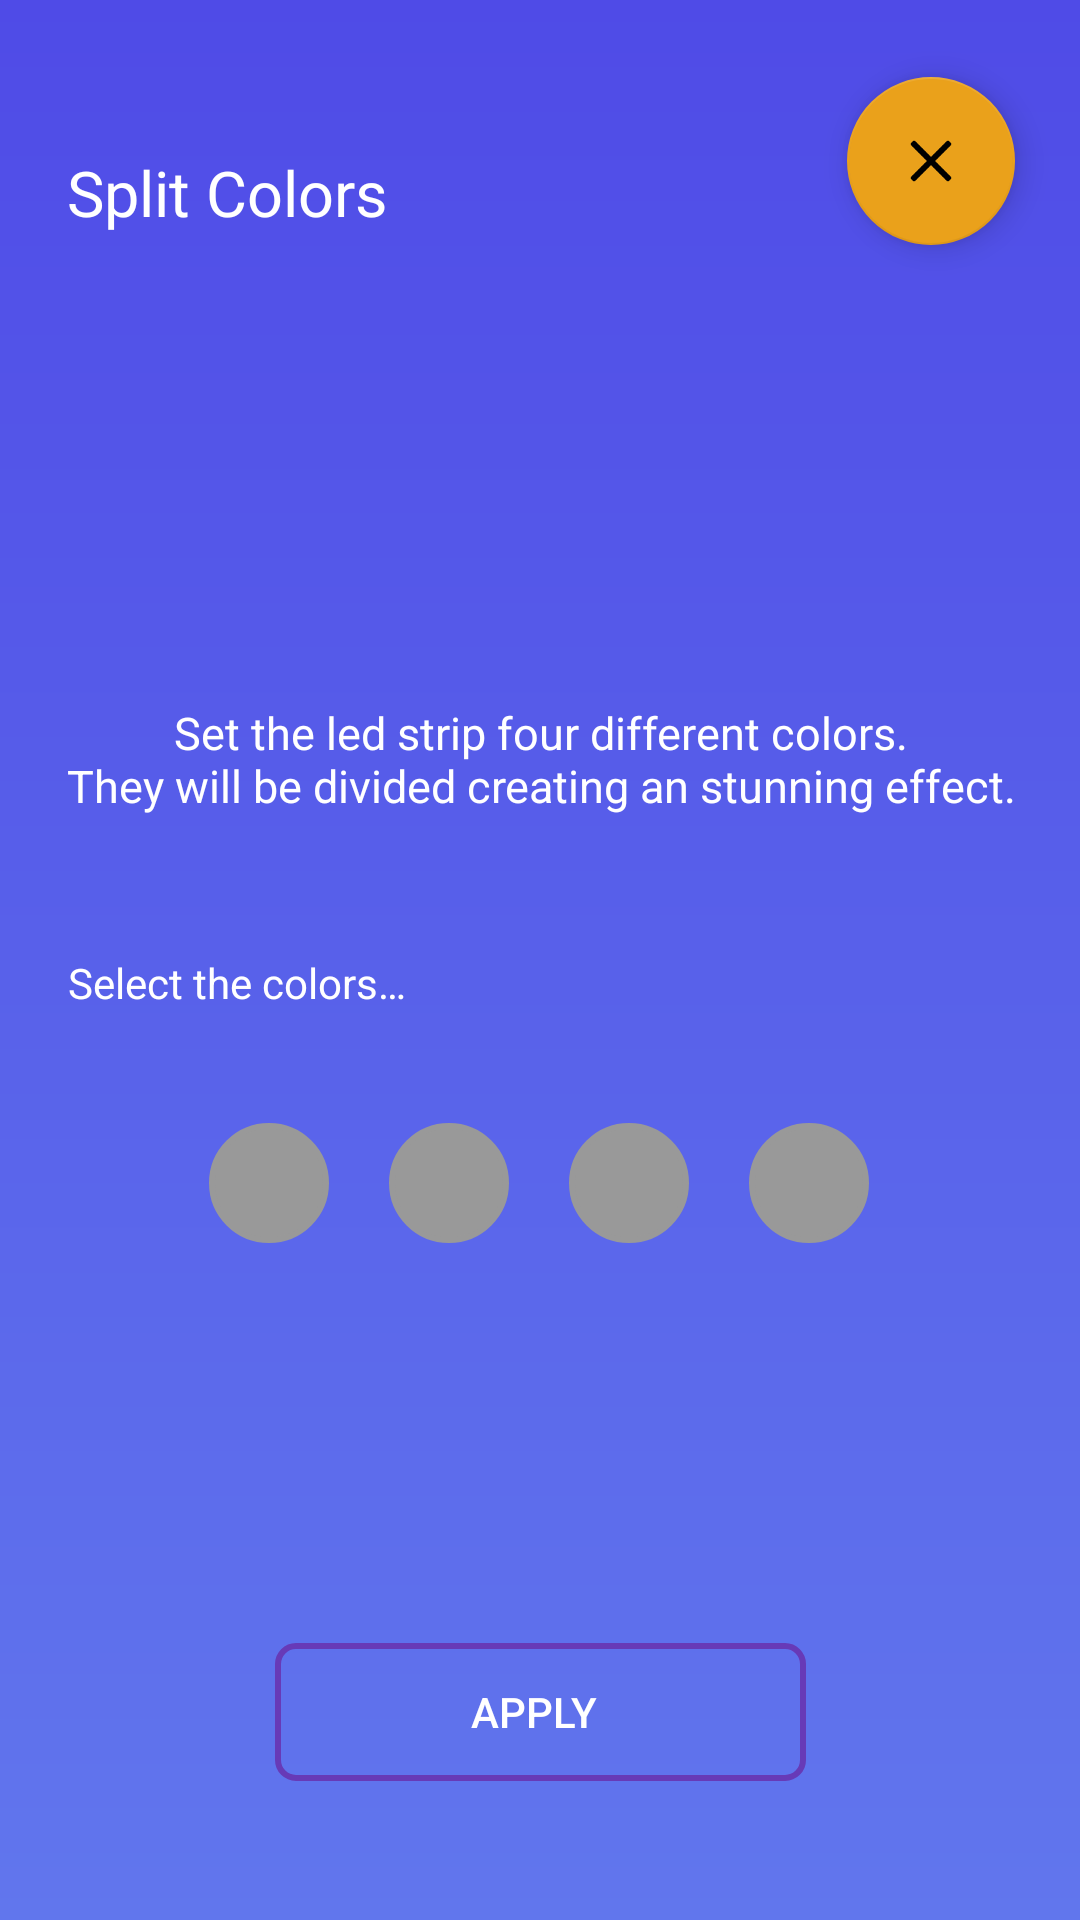

Icon bounding boxes for this 1080px x 1920px phone screenshot, format BBox(x1, y1, x2, y2):
close: BBox(847, 77, 1015, 245)
